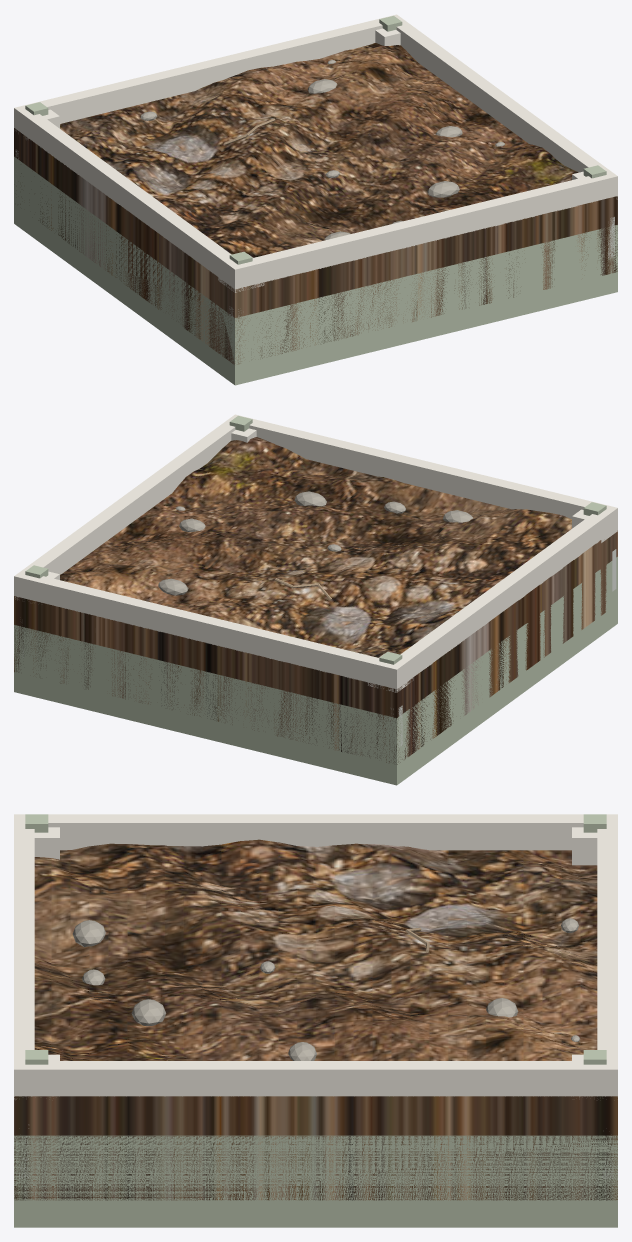
Rendered from s03-untreated-quarter-ne.glb.
3 renders of one model, top to bottom at view 1: azimuth 30°, elevation 25°; view 2: azimuth 150°, elevation 25°; view 3: azimuth 270°, elevation 25°, orthographic. The views are drawn at different scales.
Parts seen in each view (by area): view 1: S03_Physical_Untreated_Soil_Top_RealRelief, S03_Frame_Sage_Solid_Bottom, S03_Cream_Rim_N, S03_Cream_Rim_S, S03_Cream_Rim_W, S03_Cream_Rim_E; view 2: S03_Physical_Untreated_Soil_Top_RealRelief, S03_Frame_Sage_Solid_Bottom, S03_Cream_Rim_S, S03_Cream_Rim_N, S03_Cream_Rim_W, S03_Cream_Rim_E, S03_Cream_Protective_Corner_0_1; view 3: S03_Physical_Untreated_Soil_Top_RealRelief, S03_Frame_Sage_Solid_Bottom, S03_Cream_Rim_E, S03_Cream_Rim_W, S03_Cream_Rim_S, S03_Cream_Rim_N, S03_Cream_Protective_Corner_0_0, S03_Cream_Protective_Corner_0_1, S03_Embedded_Stone_008, S03_Embedded_Stone_036.
Part boxes in pixels (x1,y1,x2,y2): S03_Physical_Untreated_Soil_Top_RealRelief: [14, 43, 617, 364]; S03_Frame_Sage_Solid_Bottom: [14, 156, 617, 385]; S03_Cream_Rim_N: [227, 173, 617, 289]; S03_Cream_Rim_S: [14, 14, 403, 132]; S03_Cream_Rim_W: [14, 105, 247, 288]; S03_Cream_Rim_E: [384, 15, 617, 198]; S03_Physical_Untreated_Soil_Top_RealRelief: [14, 437, 617, 764]; S03_Frame_Sage_Solid_Bottom: [14, 556, 617, 785]; S03_Cream_Rim_S: [14, 574, 404, 689]; S03_Cream_Rim_N: [228, 414, 617, 527]; S03_Cream_Rim_W: [384, 505, 617, 688]; S03_Cream_Rim_E: [14, 415, 245, 598]; S03_Cream_Protective_Corner_0_1: [572, 509, 617, 542]; S03_Physical_Untreated_Soil_Top_RealRelief: [14, 839, 617, 1200]; S03_Frame_Sage_Solid_Bottom: [14, 1135, 617, 1227]; S03_Cream_Rim_E: [14, 1061, 617, 1096]; S03_Cream_Rim_W: [14, 814, 617, 850]; S03_Cream_Rim_S: [597, 814, 617, 1096]; S03_Cream_Rim_N: [14, 814, 34, 1096]; S03_Cream_Protective_Corner_0_0: [572, 827, 597, 865]; S03_Cream_Protective_Corner_0_1: [34, 827, 59, 859]; S03_Embedded_Stone_008: [131, 999, 166, 1025]; S03_Embedded_Stone_036: [72, 920, 105, 947].
Size of the model in its own units: 0.5 by 0.149 by 0.5.
Materials: 8 (1 with a texture image).
